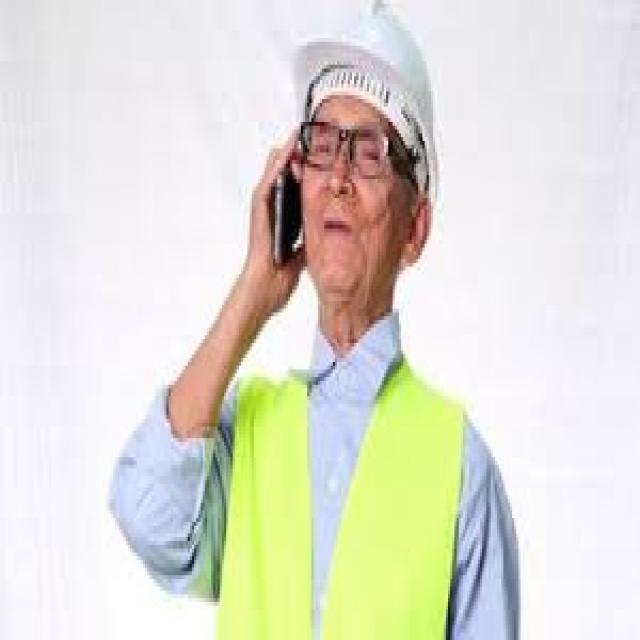Reflective-Jacket: (203, 324, 480, 640)
Safety-Helmet: (267, 4, 454, 202)
